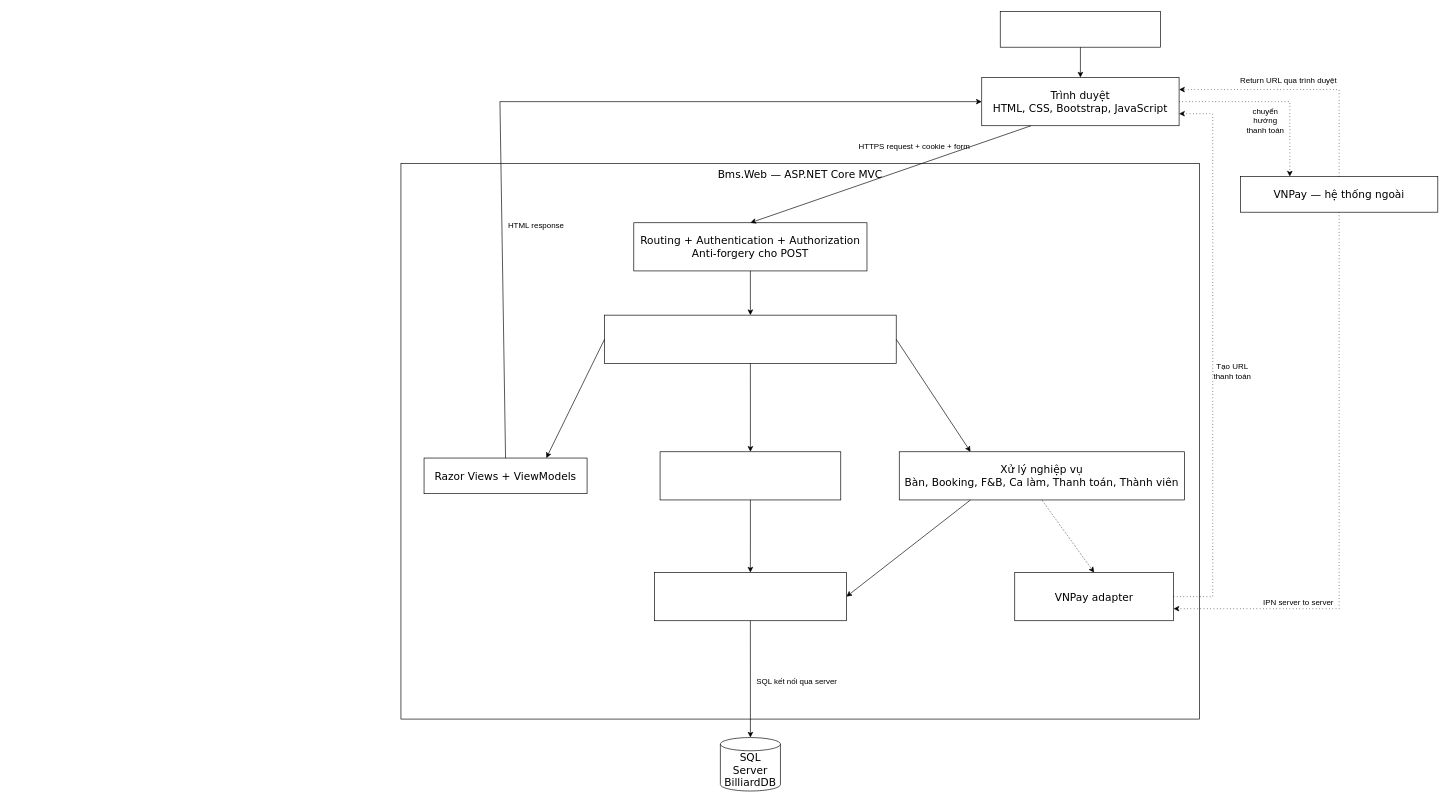
Image size: 1449x803. Some labels were removed from this diagram. The centre of each missing label's shape, as x and y in pixels:
"Admin / Staff / Customer" belongs at pixel 1080 29.
"ApplicationDbContext / EF Core SQL có tham số và procedure" belongs at pixel 750 596.
"ASP.NET Core Identity UserManager + SignInManager" belongs at pixel 750 475.
"MVC Controllers Account, Employee, Profile và các module nghiệp vụ" belongs at pixel 750 338.
